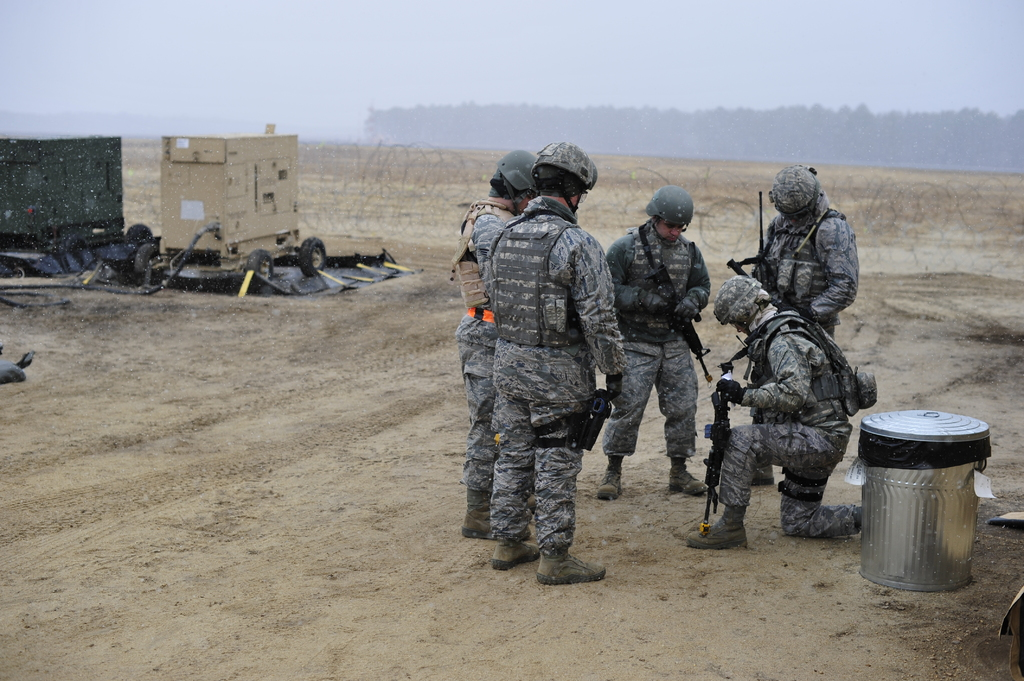Person: (454, 141, 861, 585)
